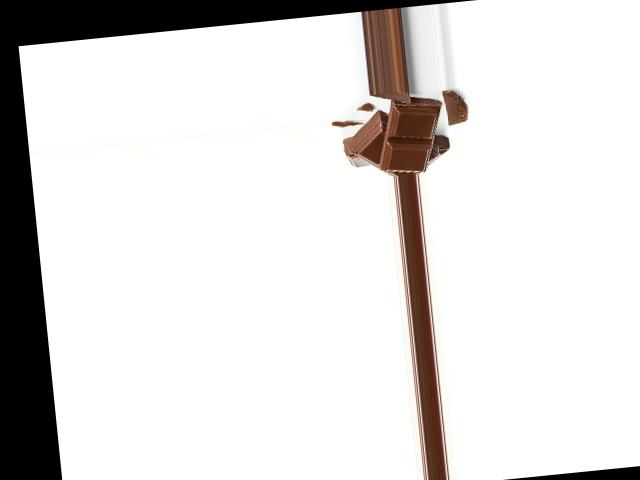chocolate: (372, 96, 445, 173)
